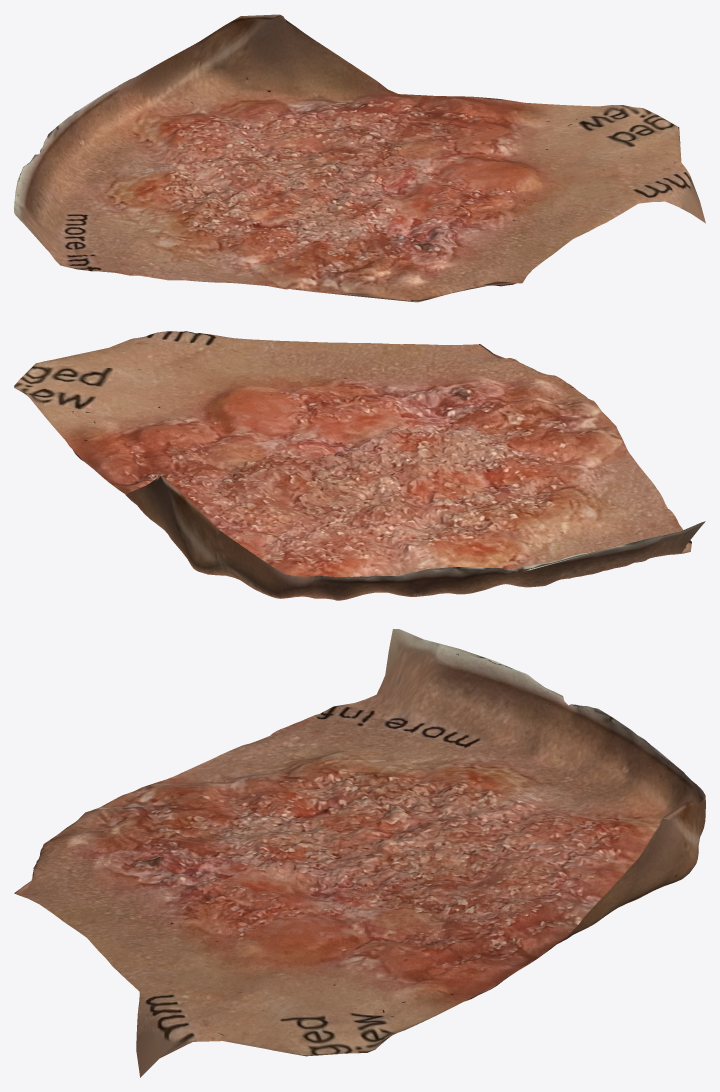
File: baked_mesh.obj
3 views of the same model, one above another, from view 1: azimuth 30°, elevation 25°; view 2: azimuth 150°, elevation 25°; view 3: azimuth 270°, elevation 25° (orthographic). The views are drawn at different scales.
Size of the model in its own units: 0.6425 by 0.1039 by 0.4964.
1 material, 1 textured.
